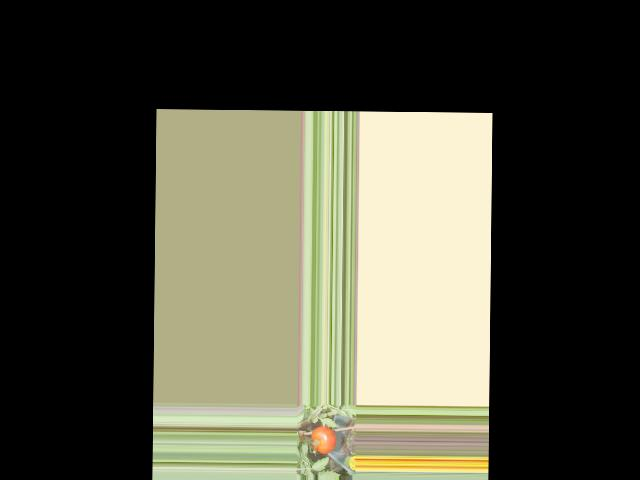tomato: (311, 425, 336, 454)
